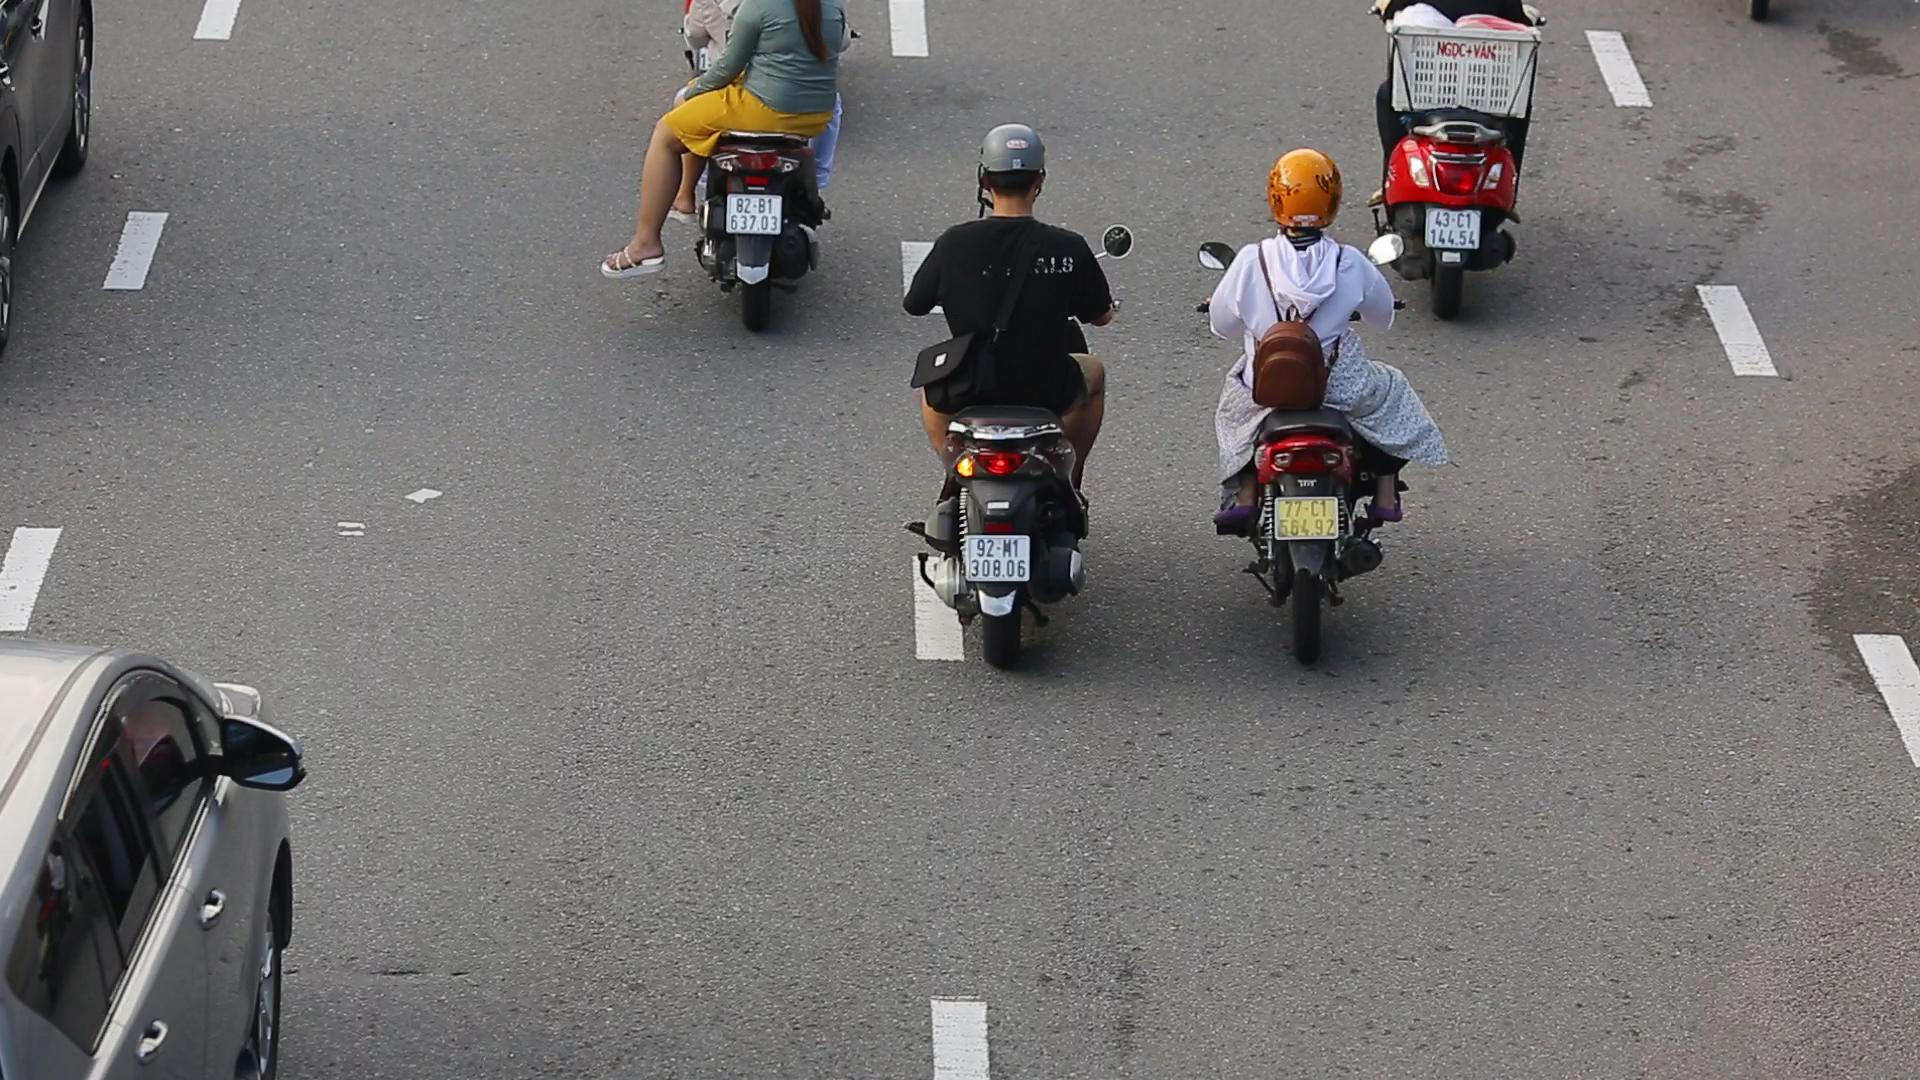motobike: (898, 112, 1142, 684), (1172, 136, 1406, 674)
